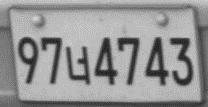3: (169, 36, 193, 86)
4: (143, 36, 169, 86), (93, 36, 117, 85)
7: (116, 36, 139, 85), (40, 36, 62, 84)
9: (16, 36, 39, 84)
너: (65, 45, 90, 85)
